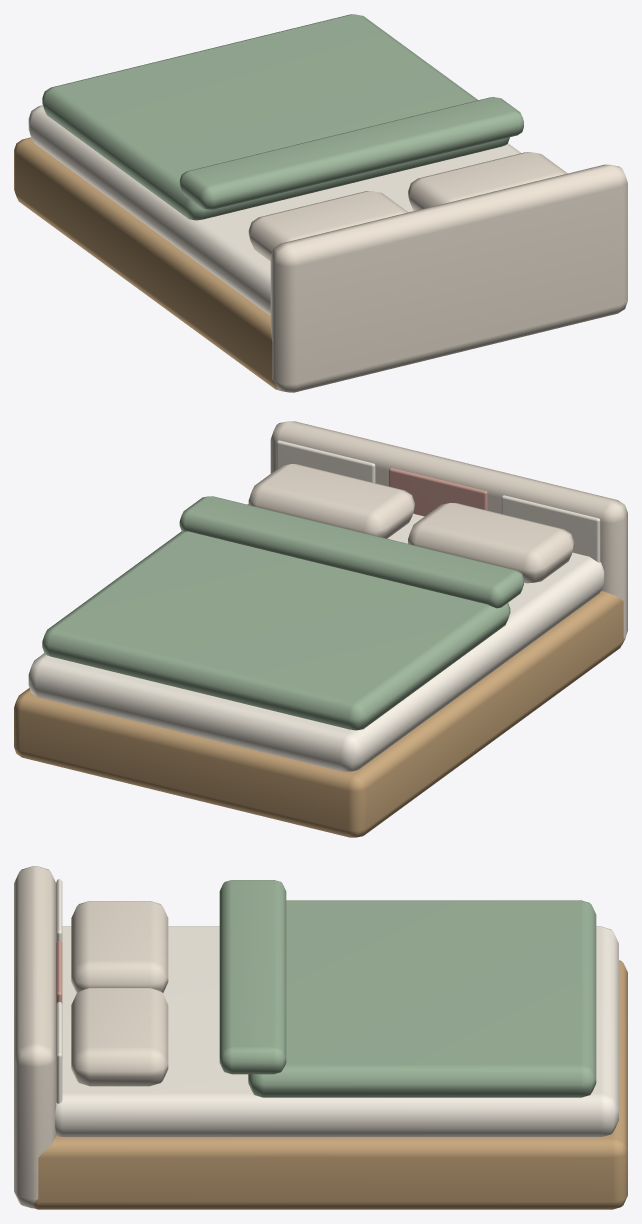
The model's file is bed.glb.
3 renders of one model, top to bottom at view 1: azimuth 30°, elevation 25°; view 2: azimuth 150°, elevation 25°; view 3: azimuth 270°, elevation 25°, orthographic. The views are drawn at different scales.
Visible parts, largest first — view 1: headboard, quilt, frame, mattress, quilt_fold, pillow_-0.34, pillow_0.34; view 2: quilt, frame, mattress, quilt_fold, headboard, pillow_-0.34, pillow_0.34, hb_panel_0, hb_panel_1, hb_panel_2; view 3: quilt, frame, mattress, headboard, quilt_fold, pillow_0.34, pillow_-0.34, hb_panel_2.
Boxes of the visible parts, bbox=[...] form: headboard: bbox=[270, 164, 627, 392]; quilt: bbox=[42, 14, 509, 220]; frame: bbox=[14, 137, 277, 389]; mattress: bbox=[28, 105, 521, 315]; quilt_fold: bbox=[179, 97, 523, 209]; pillow_-0.34: bbox=[248, 191, 408, 260]; pillow_0.34: bbox=[408, 152, 567, 210]; quilt: bbox=[42, 531, 510, 730]; frame: bbox=[14, 591, 623, 837]; mattress: bbox=[28, 504, 604, 771]; quilt_fold: bbox=[179, 496, 523, 608]; headboard: bbox=[270, 421, 627, 645]; pillow_-0.34: bbox=[408, 503, 574, 583]; pillow_0.34: bbox=[248, 464, 414, 538]; hb_panel_0: bbox=[501, 495, 600, 562]; hb_panel_1: bbox=[389, 468, 487, 516]; hb_panel_2: bbox=[276, 440, 375, 482]; quilt: bbox=[248, 900, 596, 1097]; frame: bbox=[34, 960, 627, 1209]; mattress: bbox=[55, 926, 618, 1136]; headboard: bbox=[14, 866, 56, 1208]; quilt_fold: bbox=[219, 880, 286, 1074]; pillow_0.34: bbox=[71, 987, 168, 1086]; pillow_-0.34: bbox=[71, 901, 168, 993]; hb_panel_2: bbox=[56, 1002, 62, 1103].
Size of the model in its own units: 1.5 by 0.6 by 2.03.
